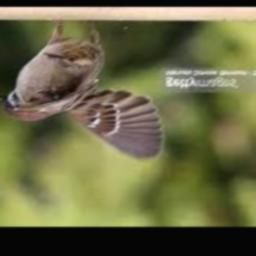Sparrow: (0, 20, 163, 162)
